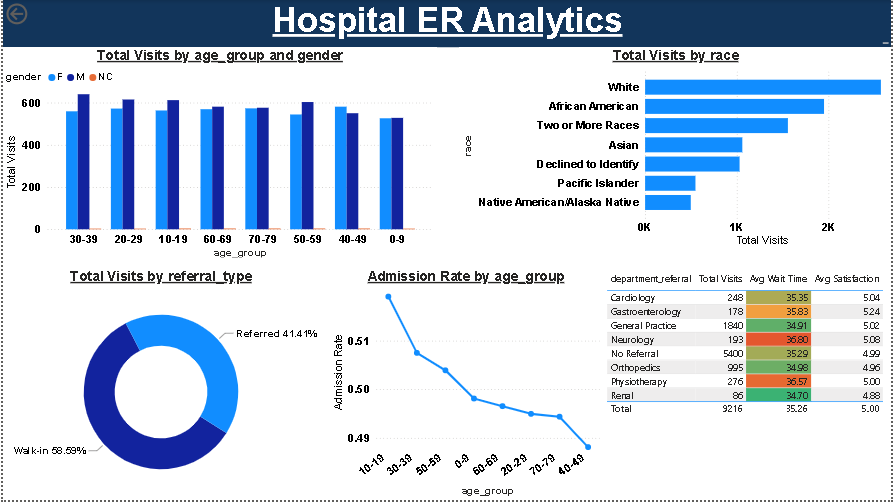

The dashboard page shown, as its layout file describes it:
{"tool":"powerbi","page":{"name":"Patient Demographic","canvas":[1280,720],"ordinal":2},"visuals":[{"type":"textbox","title":"Hospital ER Analytics","box":[0,0,1280.2,67.7],"z":0},{"type":"clusteredColumnChart","fields":{"Category":["ER.age_group"],"Series":["ER.gender"],"Y":["ER.Total Visits"]},"box":[0,67.7,625,308.2],"z":1000},{"type":"barChart","fields":{"Category":["ER.race"],"Y":["ER.Total Visits"]},"box":[656.6,67.7,623.5,292.3],"z":2000},{"type":"donutChart","fields":{"Category":["ER.referral_type"],"Y":["ER.Total Visits"]},"box":[0,385.9,455,334.1],"z":3000},{"type":"lineChart","fields":{"Category":["ER.age_group"],"Y":["ER.Admission Rate"]},"box":[469.4,385.9,394.6,334.1],"z":4000},{"type":"tableEx","fields":{"Values":["ER.department_referral","ER.Total Visits","ER.Avg Wait Time","ER.Avg Satisfaction"]},"box":[864,386,416,334],"z":5000},{"type":"actionButton","box":[0,0,100,40],"z":6000}]}

Visuals, with their boxes in screenshot pixels (x1, y1, x2, y2), scaled from the page's 1280x720 canvas onto the 893x503 screenshot:
"Hospital ER Analytics" textbox: x1=0, y1=0, x2=892, y2=47
clusteredColumnChart - ER.age_group x ER.gender: x1=0, y1=47, x2=436, y2=263
barChart - ER.race x ER.Total Visits: x1=458, y1=47, x2=892, y2=252
donutChart - ER.referral_type x ER.Total Visits: x1=0, y1=270, x2=317, y2=502
lineChart - ER.age_group x ER.Admission Rate: x1=327, y1=270, x2=603, y2=502
tableEx - ER.department_referral x ER.Total Visits: x1=603, y1=270, x2=892, y2=502
actionButton: x1=0, y1=0, x2=70, y2=28
